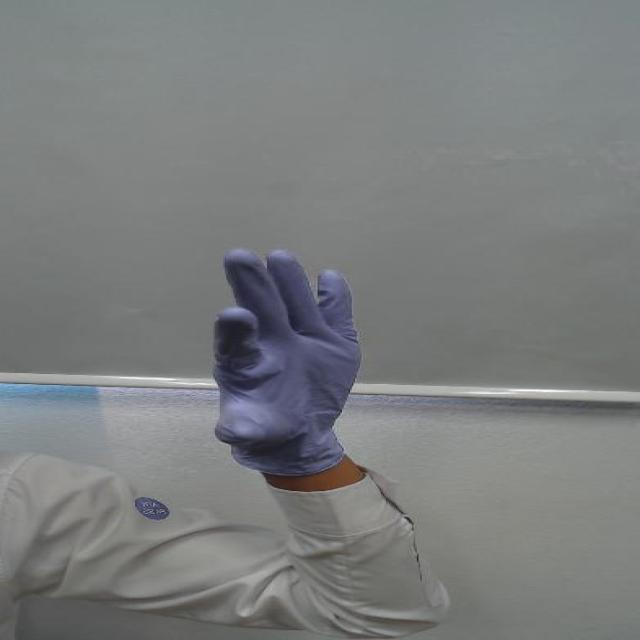glove: (183, 242, 374, 440)
